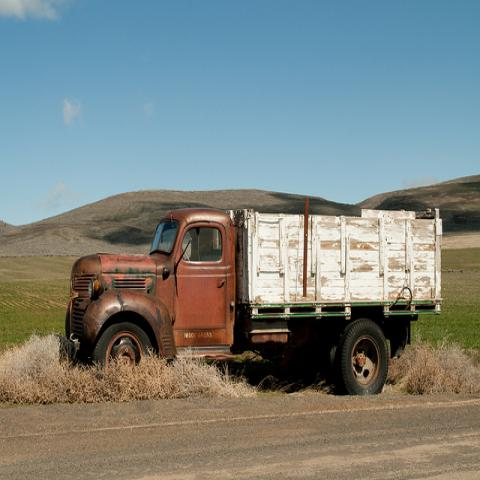truck: (66, 198, 442, 400)
